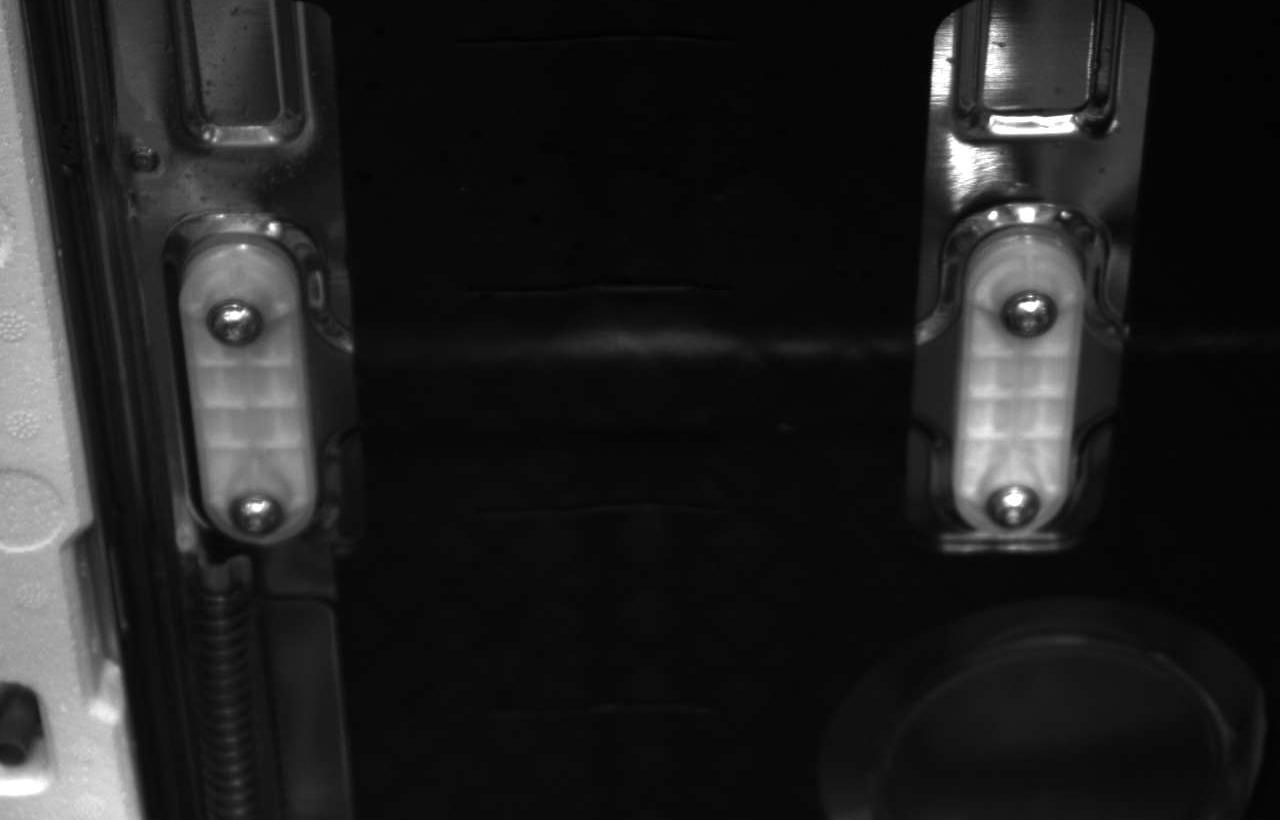vida-ok: (200, 289, 271, 357), (997, 284, 1064, 351), (973, 474, 1039, 542), (227, 484, 293, 542)
